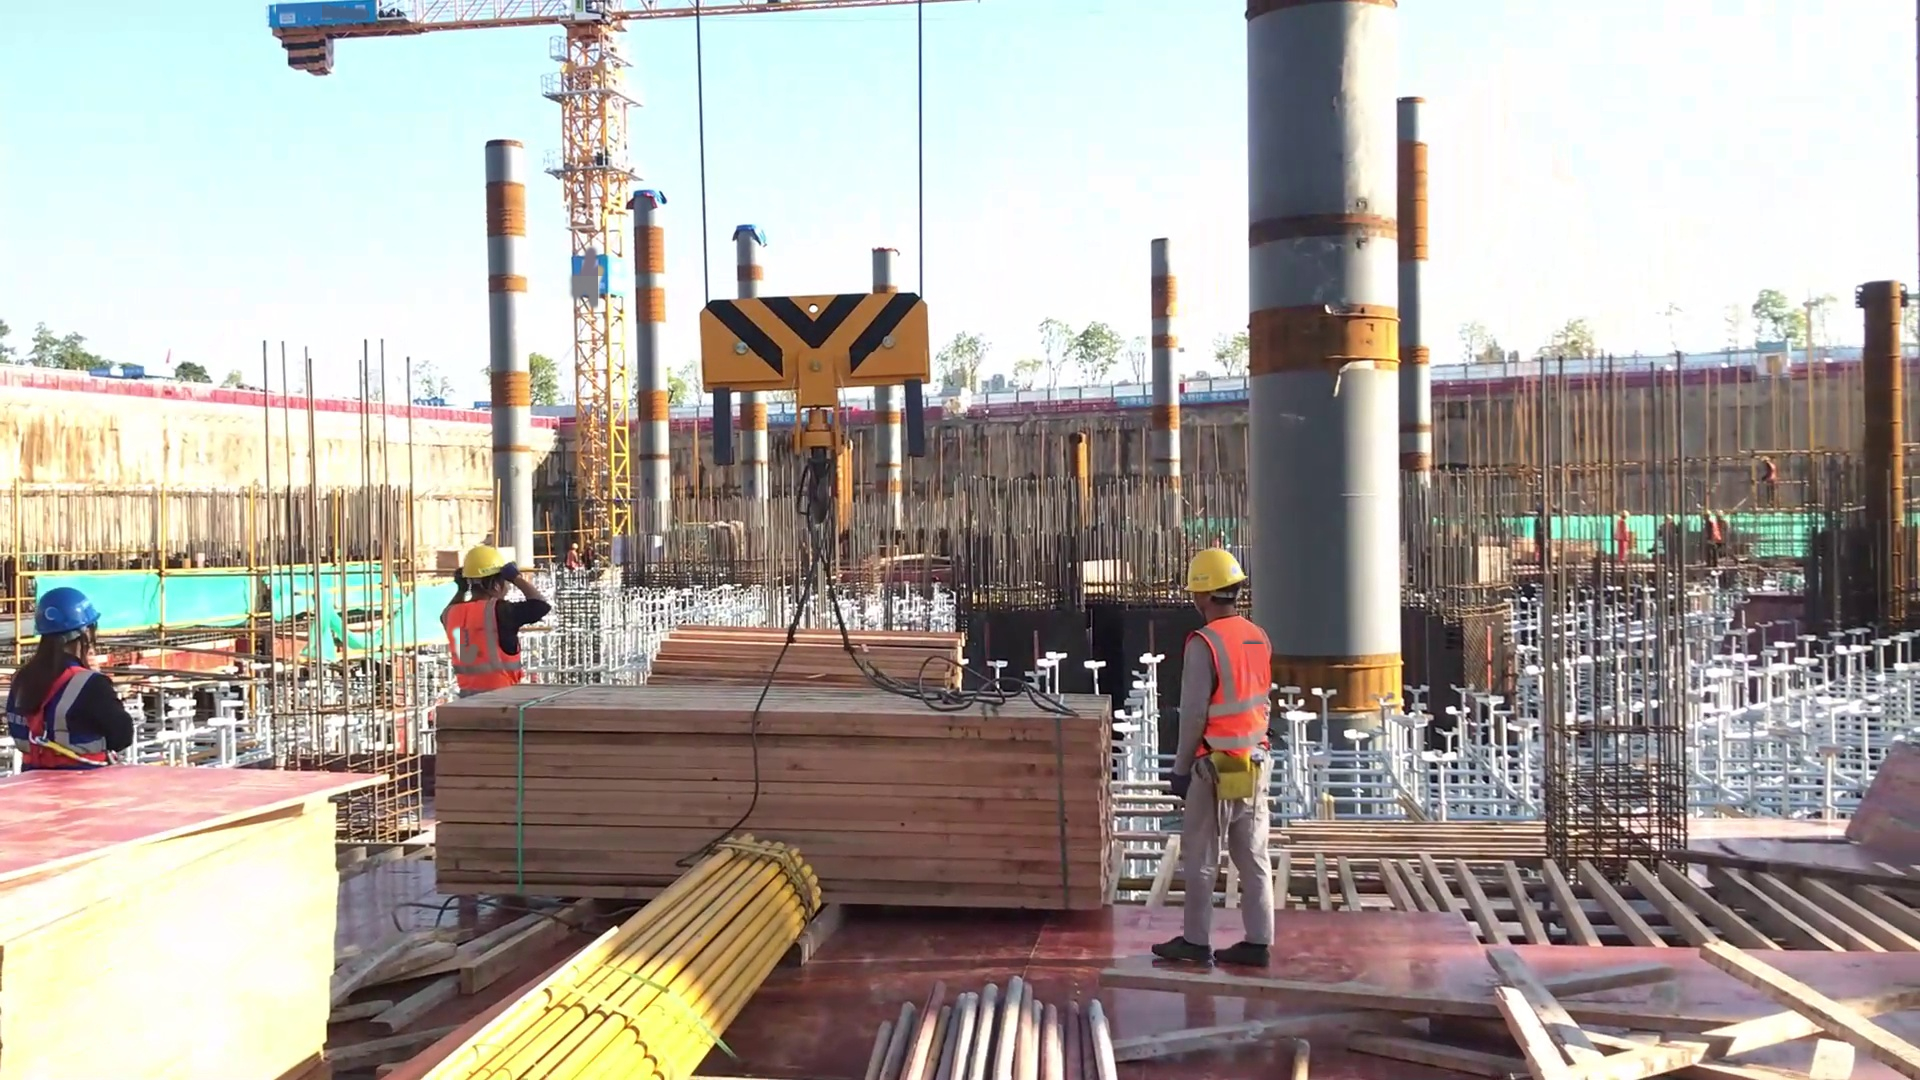board: (18, 772, 397, 1080)
helmet: (21, 579, 116, 643), (447, 541, 516, 595), (1183, 539, 1244, 599)
hook: (669, 269, 967, 542)
person: (1156, 519, 1305, 979), (15, 579, 142, 762), (421, 543, 552, 710)
vest: (1173, 614, 1278, 760), (15, 637, 116, 783), (442, 581, 538, 701)
wood: (419, 674, 1128, 923)
